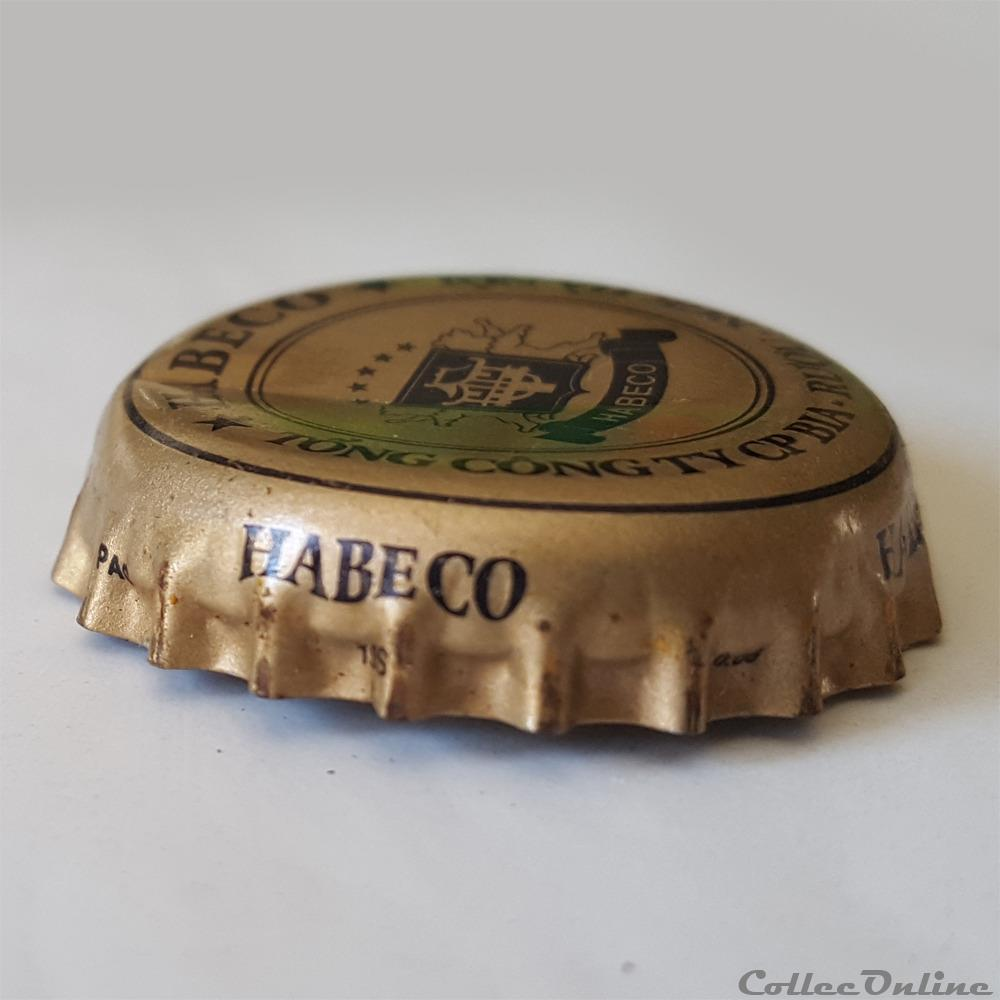metal: (53, 276, 943, 734)
